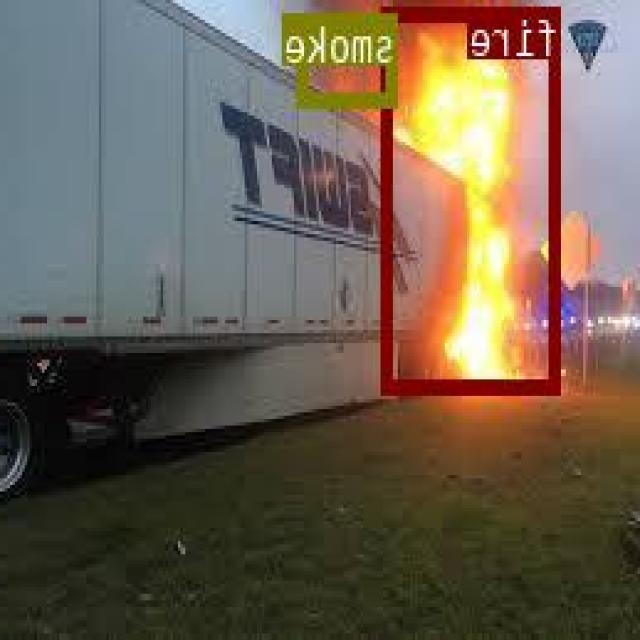fire: (383, 4, 562, 390)
smoke: (300, 12, 400, 104)
